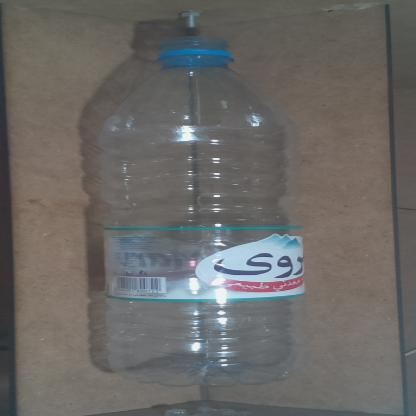Glass Bottle: (99, 36, 305, 388)
